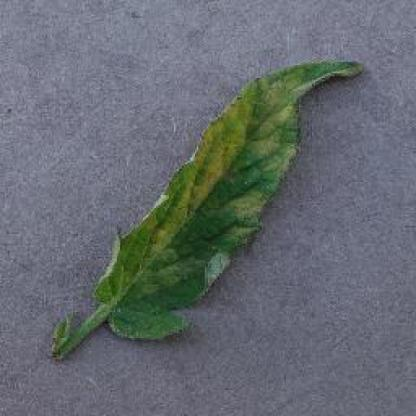Tomato_Leaf_Mold: (102, 62, 359, 336)
